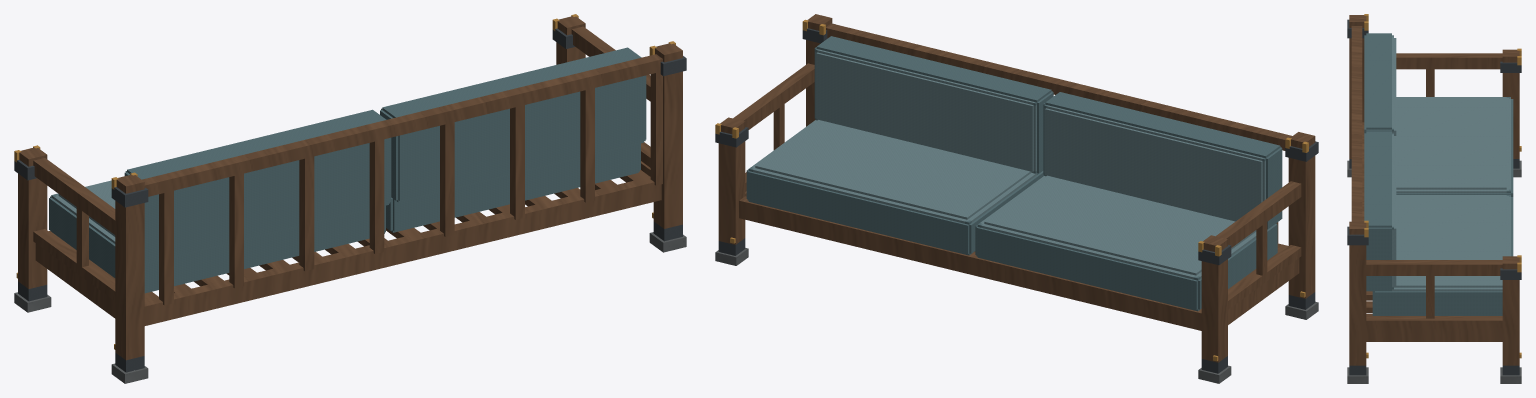
3 renders of one model, left to right at view 1: azimuth 30°, elevation 25°; view 2: azimuth 150°, elevation 25°; view 3: azimuth 270°, elevation 25°, orthographic. The views are drawn at different scales.
Parts seen in each view (by area): view 1: 沙发框架, 沙发软垫靠背; view 2: 沙发软垫靠背, 沙发框架; view 3: 沙发软垫靠背, 沙发框架.
Boxes of the visible parts, left/top/right/bottom form: 沙发框架: left=14, top=14, right=686, bottom=383; 沙发软垫靠背: left=49, top=47, right=646, bottom=293; 沙发软垫靠背: left=746, top=36, right=1282, bottom=311; 沙发框架: left=715, top=14, right=1318, bottom=383; 沙发软垫靠背: left=1364, top=33, right=1513, bottom=315; 沙发框架: left=1347, top=14, right=1521, bottom=383.
Bounding box in the file's own units: 2.4 × 0.8 × 0.82.
6 materials, 6 textured.
